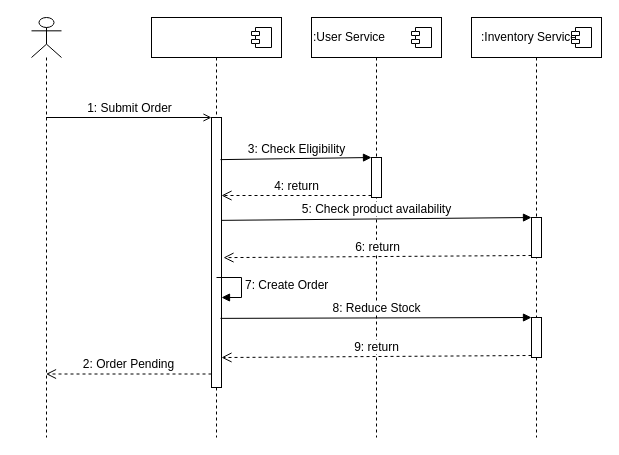
Image size: 619x455. Some labels were removed from this diagram. The shapes that lost their labels are listed below. From the top down, each one's box as (x1, y1, x2, y2) in pixels, then its label:
(30, 16, 62, 438): Registered Customer
(150, 16, 282, 438): :Order Service
